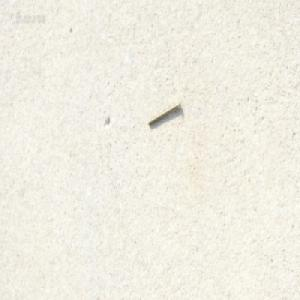Bolt: (147, 98, 180, 127)
